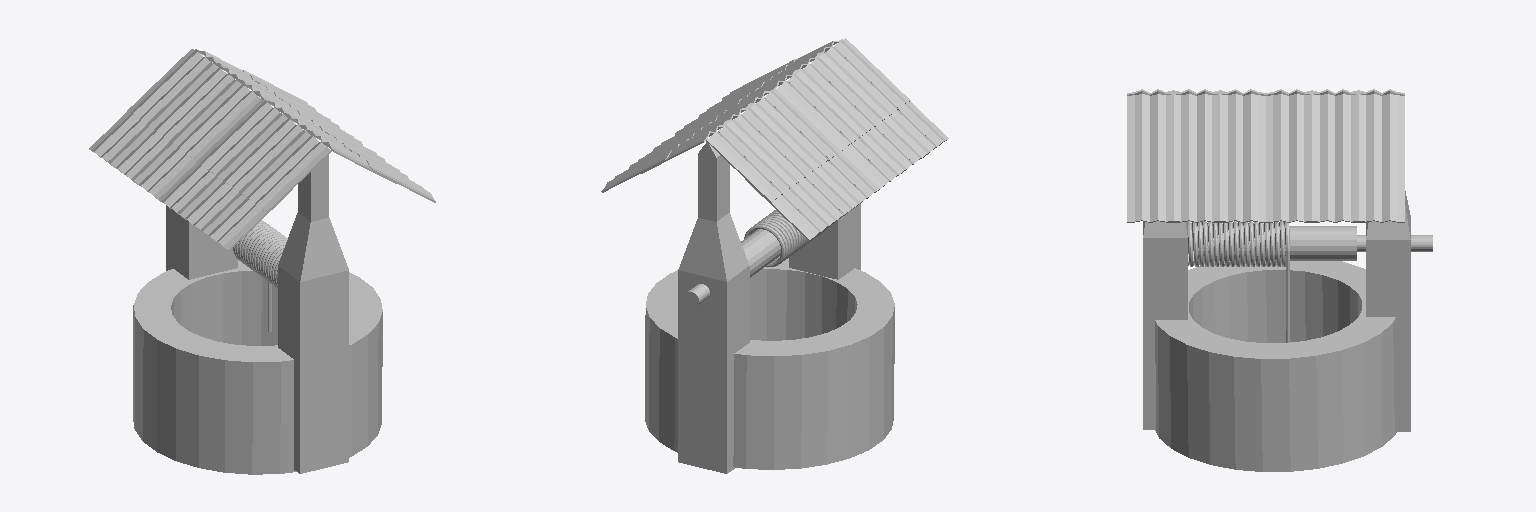
File: well.obj
The picture shows the model from 3 angles: view 1: azimuth 30°, elevation 25°; view 2: azimuth 150°, elevation 25°; view 3: azimuth 270°, elevation 25°; orthographic projection.
Visible parts, largest first — view 1: pPipe1, pCube41, polySurface3, pasted__pCube1, polySurface1, pCube40, pHelix1, pCube36; view 2: pPipe1, pCube41, polySurface1, pCube1, polySurface3, pCube36, pCube40, pHelix1, pCylinder1; view 3: pPipe1, pCube40, pCube36, polySurface3, polySurface1, pHelix1, pCylinder1, pCube41, pCube1, pasted__pCube1, pasted__pCylinder1.
Boxes of the visible parts, x1,y1,x2,y2 form: pPipe1: [133, 260, 382, 474]; pCube41: [89, 49, 331, 250]; polySurface3: [278, 266, 348, 473]; pasted__pCube1: [278, 155, 348, 281]; polySurface1: [166, 205, 237, 279]; pCube40: [261, 97, 435, 202]; pHelix1: [233, 220, 287, 331]; pCube36: [195, 49, 362, 145]; pPipe1: [645, 258, 894, 469]; pCube41: [706, 38, 948, 240]; polySurface1: [678, 266, 749, 473]; pCube1: [678, 142, 748, 281]; polySurface3: [789, 204, 860, 279]; pCube36: [601, 89, 773, 192]; pCube40: [675, 39, 842, 135]; pHelix1: [744, 210, 829, 266]; pCylinder1: [741, 229, 780, 277]; pPipe1: [1155, 261, 1397, 471]; pCube40: [1127, 94, 1358, 222]; pCube36: [1266, 94, 1404, 222]; polySurface3: [1143, 238, 1187, 429]; polySurface1: [1366, 240, 1410, 431]; pHelix1: [1188, 221, 1289, 342]; pCylinder1: [1197, 226, 1356, 260]; pCube41: [1127, 89, 1404, 95]; pCube1: [1366, 191, 1410, 239]; pasted__pCube1: [1143, 221, 1187, 237]; pasted__pCylinder1: [1357, 235, 1432, 251].
Size of the model in its own units: 10.65 by 15.65 by 13.14.